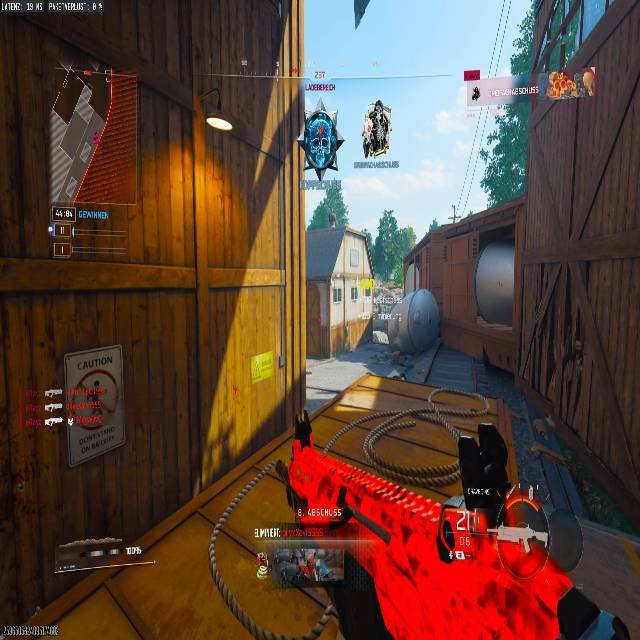player: (304, 110, 343, 178), (361, 99, 392, 156)
